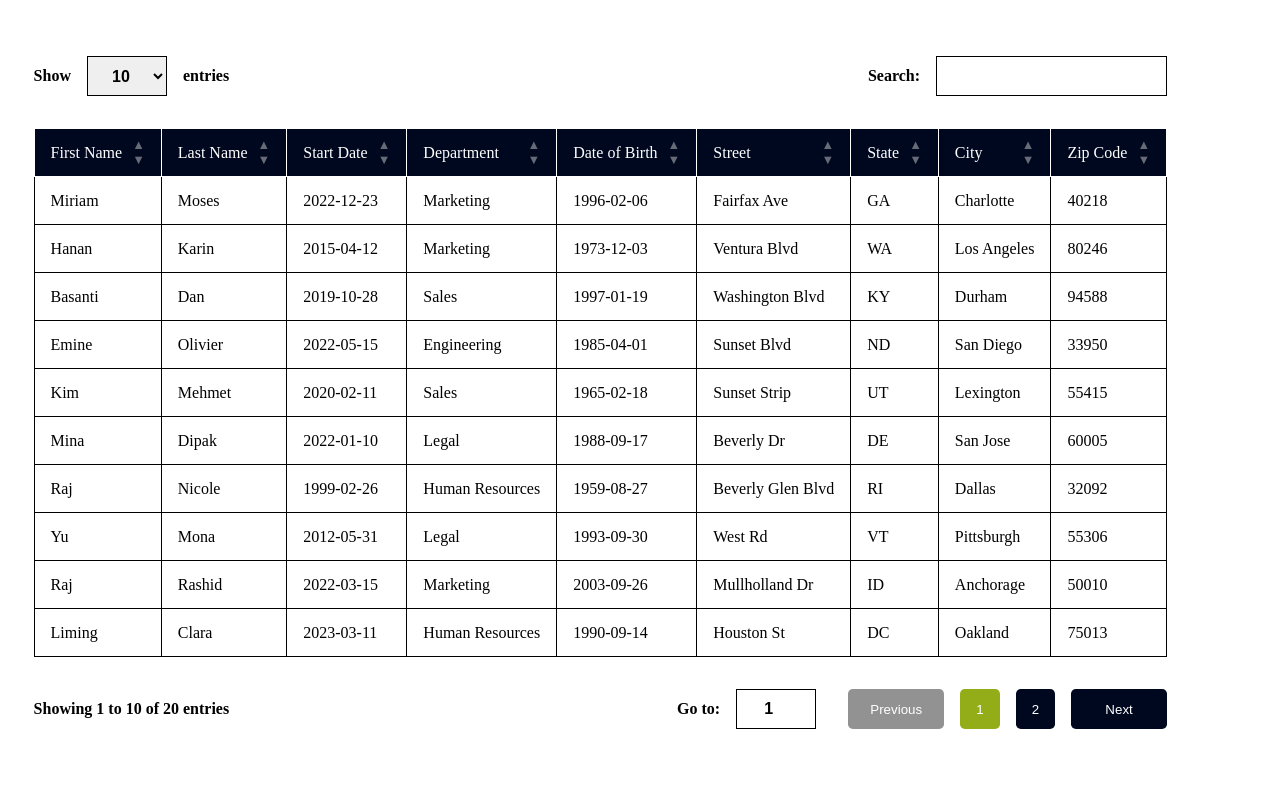
Test: Given I want to filter rows based on input search value › When I'm writing 'Sales' in input › Then 2 rows should be displayed in the table with correct data
Type "Sales" into the field with test id "search-input" at (1052, 76), box [936,56,1167,96]
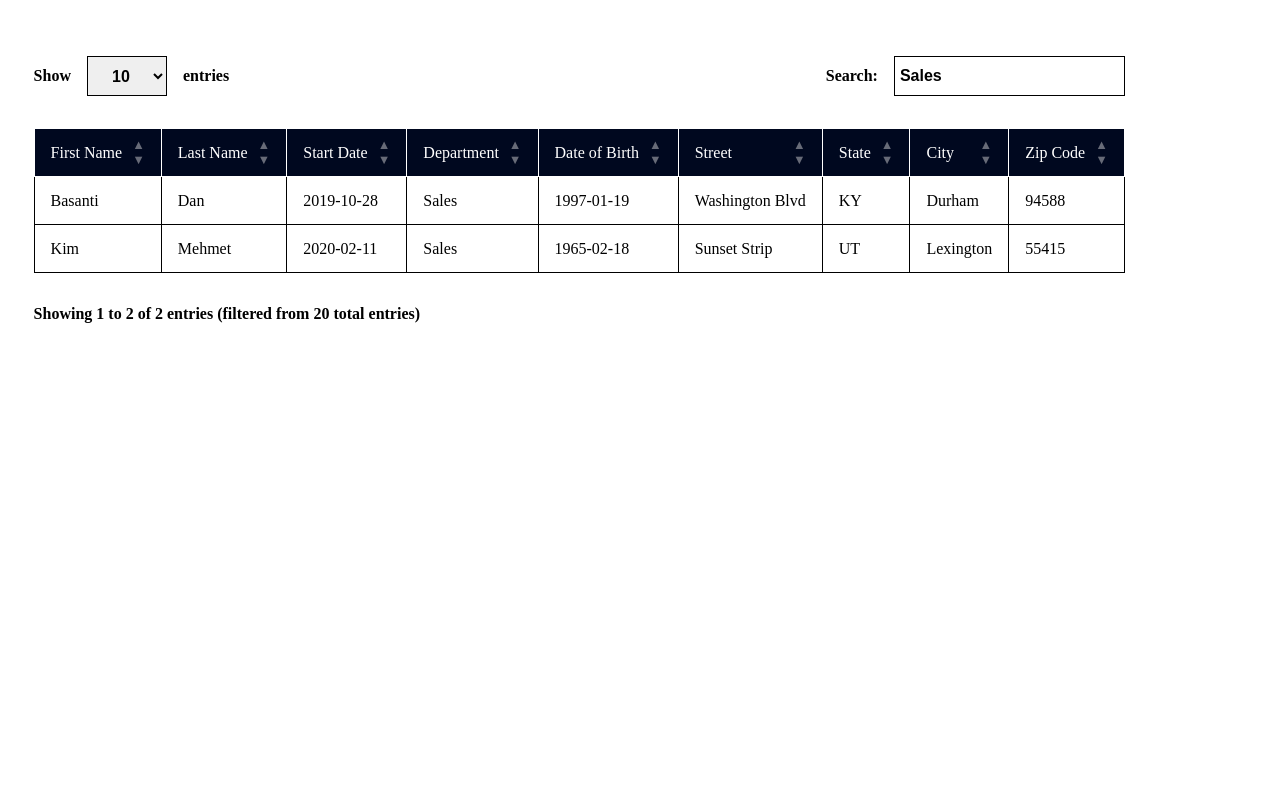
Expected: the number of rows with test id "tbody-row" is 2, [34,176,1124,224]; [34,224,1124,272]
